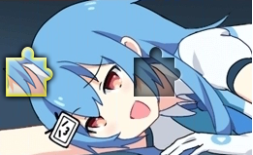gap: (134, 46, 182, 96)
